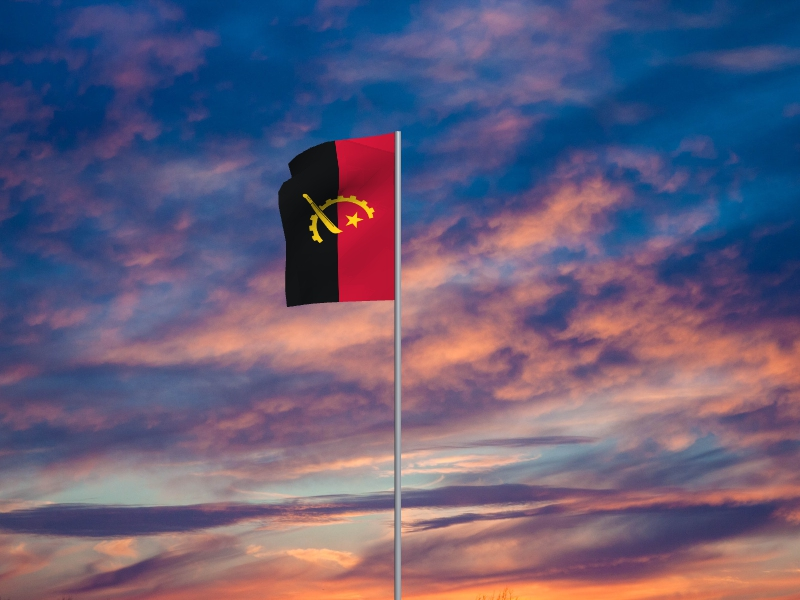ao: (277, 133, 395, 310)
